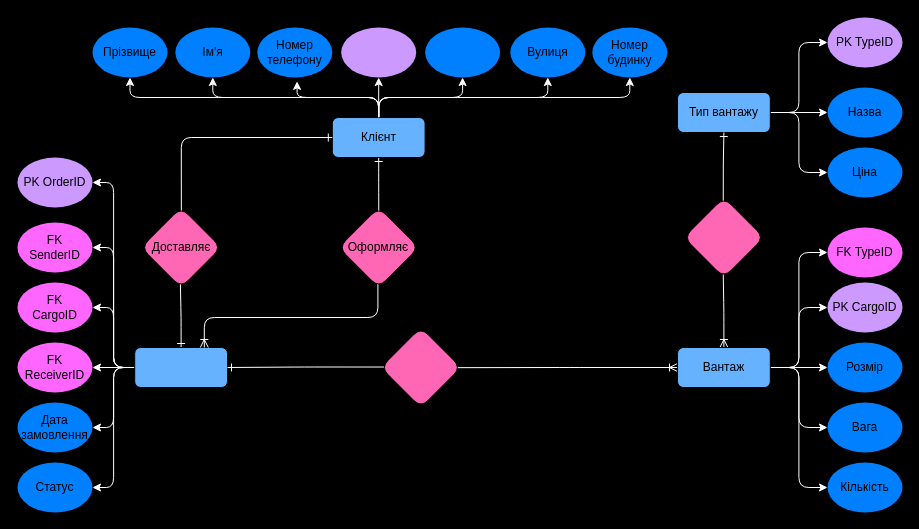
This 919x529 diagram has some shape labels left out. Each missing label, with the box of its shape:
PK CustomerID: (341, 27, 416, 77)
Включає: (380, 326, 461, 408)
Відповідає: (683, 196, 764, 278)
Замовлення: (134, 346, 228, 388)
Місто: (425, 27, 500, 77)
